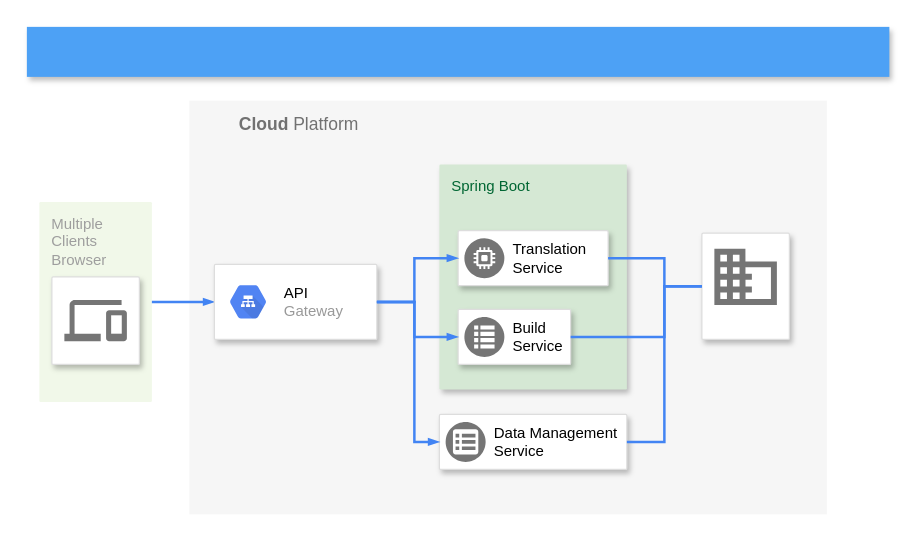
Some shapes in this 918 by 535 pixel diagram are drawn without their labels. The shapes that lost their labels are listed below. From the top down, each one's centre as x and y in pixels, then its label:
At pixel 458 53: "Architecture: Hoi4-TH-Localisation-Manager V2 (draft_1)".
At pixel 746 287: "Database".
